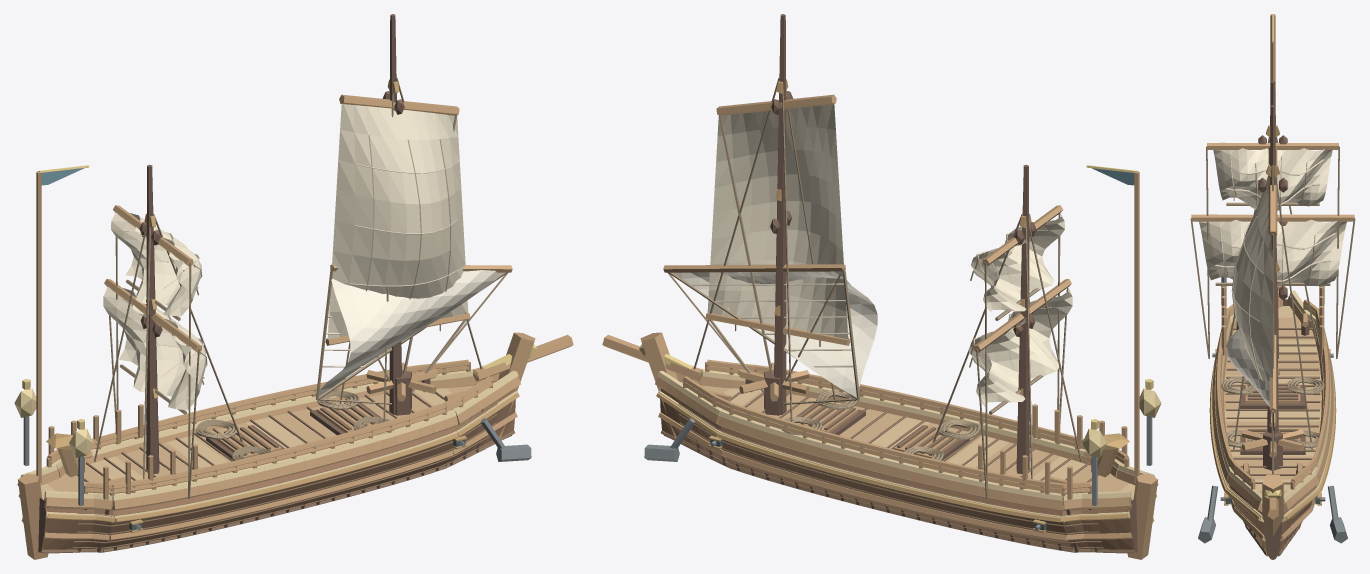
File: atlantic_brigantine-v5-mobile.glb
3 renders of one model, left to right at view 1: azimuth 30°, elevation 25°; view 2: azimuth 150°, elevation 25°; view 3: azimuth 270°, elevation 25°, orthographic. The views are drawn at different scales.
Visible parts, largest first — view 1: atlantic_brigantine_sails_sail, atlantic_brigantine_hull_wood, atlantic_brigantine_railings_wood, atlantic_brigantine_sails_sailbright, atlantic_brigantine_hull_seam, atlantic_brigantine_hull_pale, atlantic_brigantine_hull_hull2, atlantic_brigantine_hull_hull, atlantic_brigantine_masts_darkwood, atlantic_brigantine_hull_deck, atlantic_brigantine_rigging_rope, atlantic_brigantine_rigging_wood (+13 smaller); view 2: atlantic_brigantine_sails_sail, atlantic_brigantine_hull_wood, atlantic_brigantine_railings_wood, atlantic_brigantine_hull_seam, atlantic_brigantine_hull_pale, atlantic_brigantine_masts_darkwood, atlantic_brigantine_sails_sailbright, atlantic_brigantine_hull_hull2, atlantic_brigantine_rigging_wood, atlantic_brigantine_hull_hull, atlantic_brigantine_rigging_rope, atlantic_brigantine_hull_deck (+14 smaller); view 3: atlantic_brigantine_sails_sail, atlantic_brigantine_hull_wood, atlantic_brigantine_hull_deck, atlantic_brigantine_rigging_wood, atlantic_brigantine_hull_seam, atlantic_brigantine_railings_wood, atlantic_brigantine_rigging_rope, atlantic_brigantine_hull_decklight, atlantic_brigantine_hull_pale, atlantic_brigantine_masts_darkwood, atlantic_brigantine_rigging_sailshade, atlantic_brigantine_fittings_darkwood (+13 smaller).
Part boxes in pixels (box(x1,y1,x2,y2)): atlantic_brigantine_sails_sail: box(103, 104, 468, 410); atlantic_brigantine_hull_wood: box(17, 332, 573, 559); atlantic_brigantine_railings_wood: box(46, 359, 492, 505); atlantic_brigantine_sails_sailbright: box(318, 270, 503, 395); atlantic_brigantine_hull_seam: box(25, 391, 514, 553); atlantic_brigantine_hull_pale: box(19, 368, 518, 518); atlantic_brigantine_hull_hull2: box(41, 388, 514, 549); atlantic_brigantine_hull_hull: box(38, 399, 515, 552); atlantic_brigantine_masts_darkwood: box(139, 14, 404, 473); atlantic_brigantine_hull_deck: box(46, 382, 495, 506); atlantic_brigantine_rigging_rope: box(109, 115, 508, 498); atlantic_brigantine_rigging_wood: box(104, 94, 512, 352); atlantic_brigantine_sails_sail: box(707, 104, 1072, 406); atlantic_brigantine_hull_wood: box(602, 332, 1158, 559); atlantic_brigantine_railings_wood: box(683, 359, 1129, 505); atlantic_brigantine_hull_seam: box(661, 391, 1150, 553); atlantic_brigantine_hull_pale: box(657, 368, 1156, 521); atlantic_brigantine_masts_darkwood: box(770, 14, 1036, 473); atlantic_brigantine_sails_sailbright: box(673, 271, 877, 396); atlantic_brigantine_hull_hull2: box(661, 388, 1134, 549); atlantic_brigantine_rigging_wood: box(663, 94, 1071, 352); atlantic_brigantine_hull_hull: box(660, 399, 1137, 552); atlantic_brigantine_rigging_rope: box(667, 115, 1067, 498); atlantic_brigantine_hull_deck: box(680, 382, 1129, 506); atlantic_brigantine_sails_sail: box(1199, 142, 1346, 416); atlantic_brigantine_hull_wood: box(1212, 286, 1333, 548); atlantic_brigantine_hull_deck: box(1224, 317, 1321, 494); atlantic_brigantine_rigging_wood: box(1191, 143, 1354, 427); atlantic_brigantine_hull_seam: box(1225, 328, 1320, 556); atlantic_brigantine_railings_wood: box(1216, 299, 1329, 489); atlantic_brigantine_rigging_rope: box(1190, 146, 1355, 448); atlantic_brigantine_hull_decklight: box(1224, 306, 1321, 490); atlantic_brigantine_hull_pale: box(1213, 290, 1332, 522); atlantic_brigantine_masts_darkwood: box(1258, 81, 1287, 433); atlantic_brigantine_rigging_sailshade: box(1210, 155, 1335, 379); atlantic_brigantine_fittings_darkwood: box(1236, 319, 1309, 474).
Bounding box in the file's own units: 49.84 × 39.63 × 14.47.
